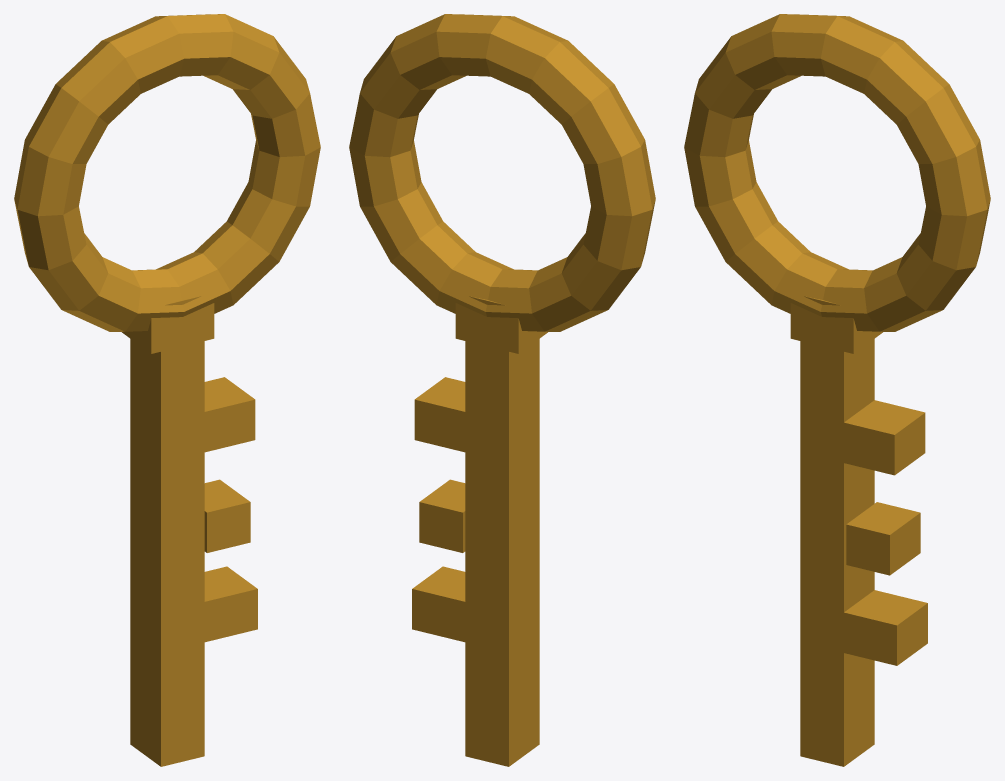
Rendered from key.obj.
The picture shows the model from 3 angles, left to right: view 1: azimuth 30°, elevation 25°; view 2: azimuth 150°, elevation 25°; view 3: azimuth 330°, elevation 25°; orthographic projection.
Visible parts, largest first — view 1: Key; view 2: Key; view 3: Key.
Part boxes in pixels (<box>): Key: <box>14,14,320,766</box>; Key: <box>349,14,655,766</box>; Key: <box>684,14,990,766</box>.
Bounding box in the file's own units: 1.24 × 2.9 × 0.24.
